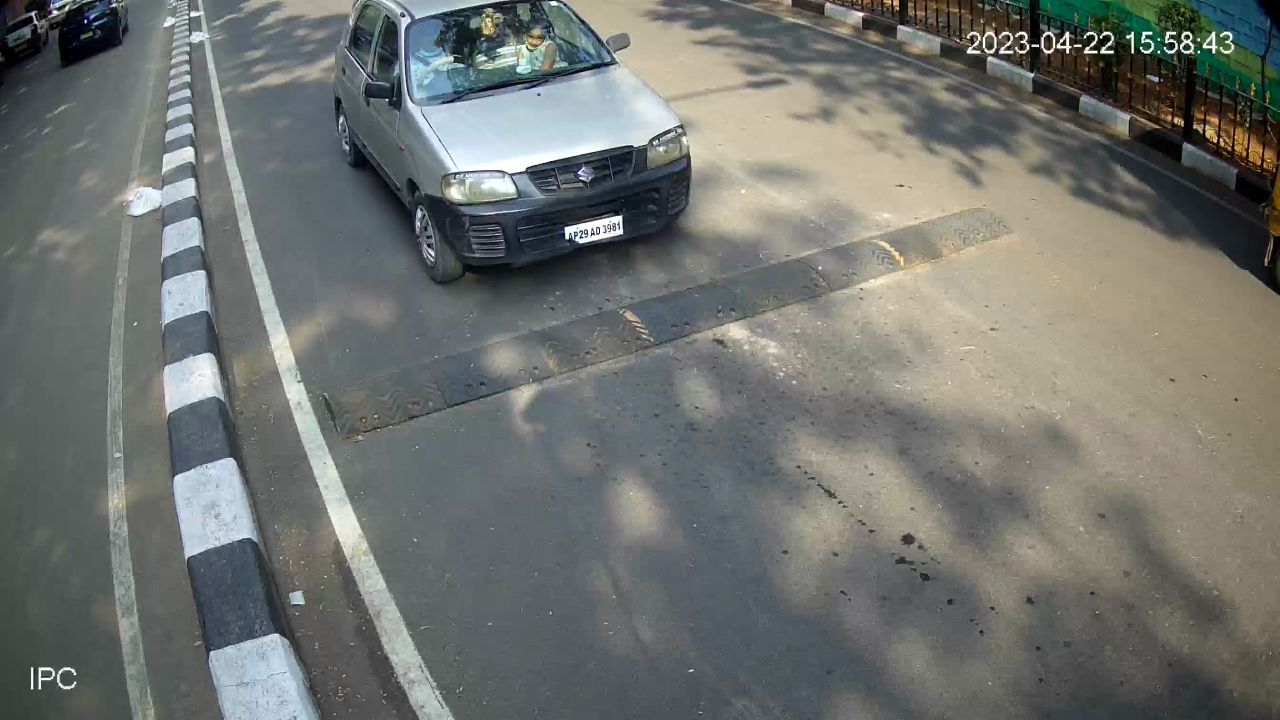license_plate: (556, 207, 628, 250)
